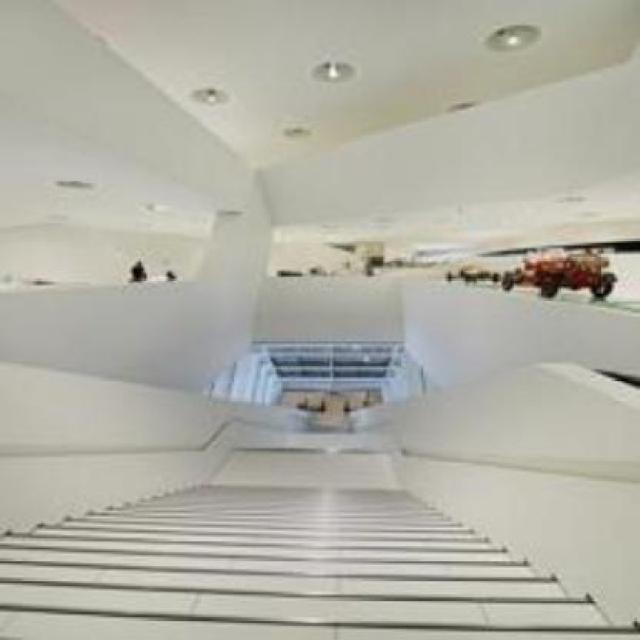stair: (6, 463, 628, 640)
